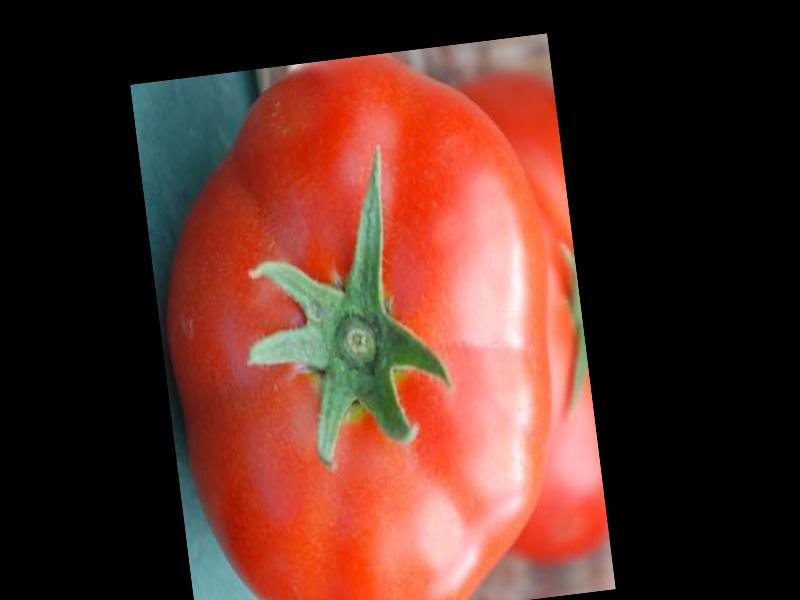Tomato: (138, 36, 587, 600)
